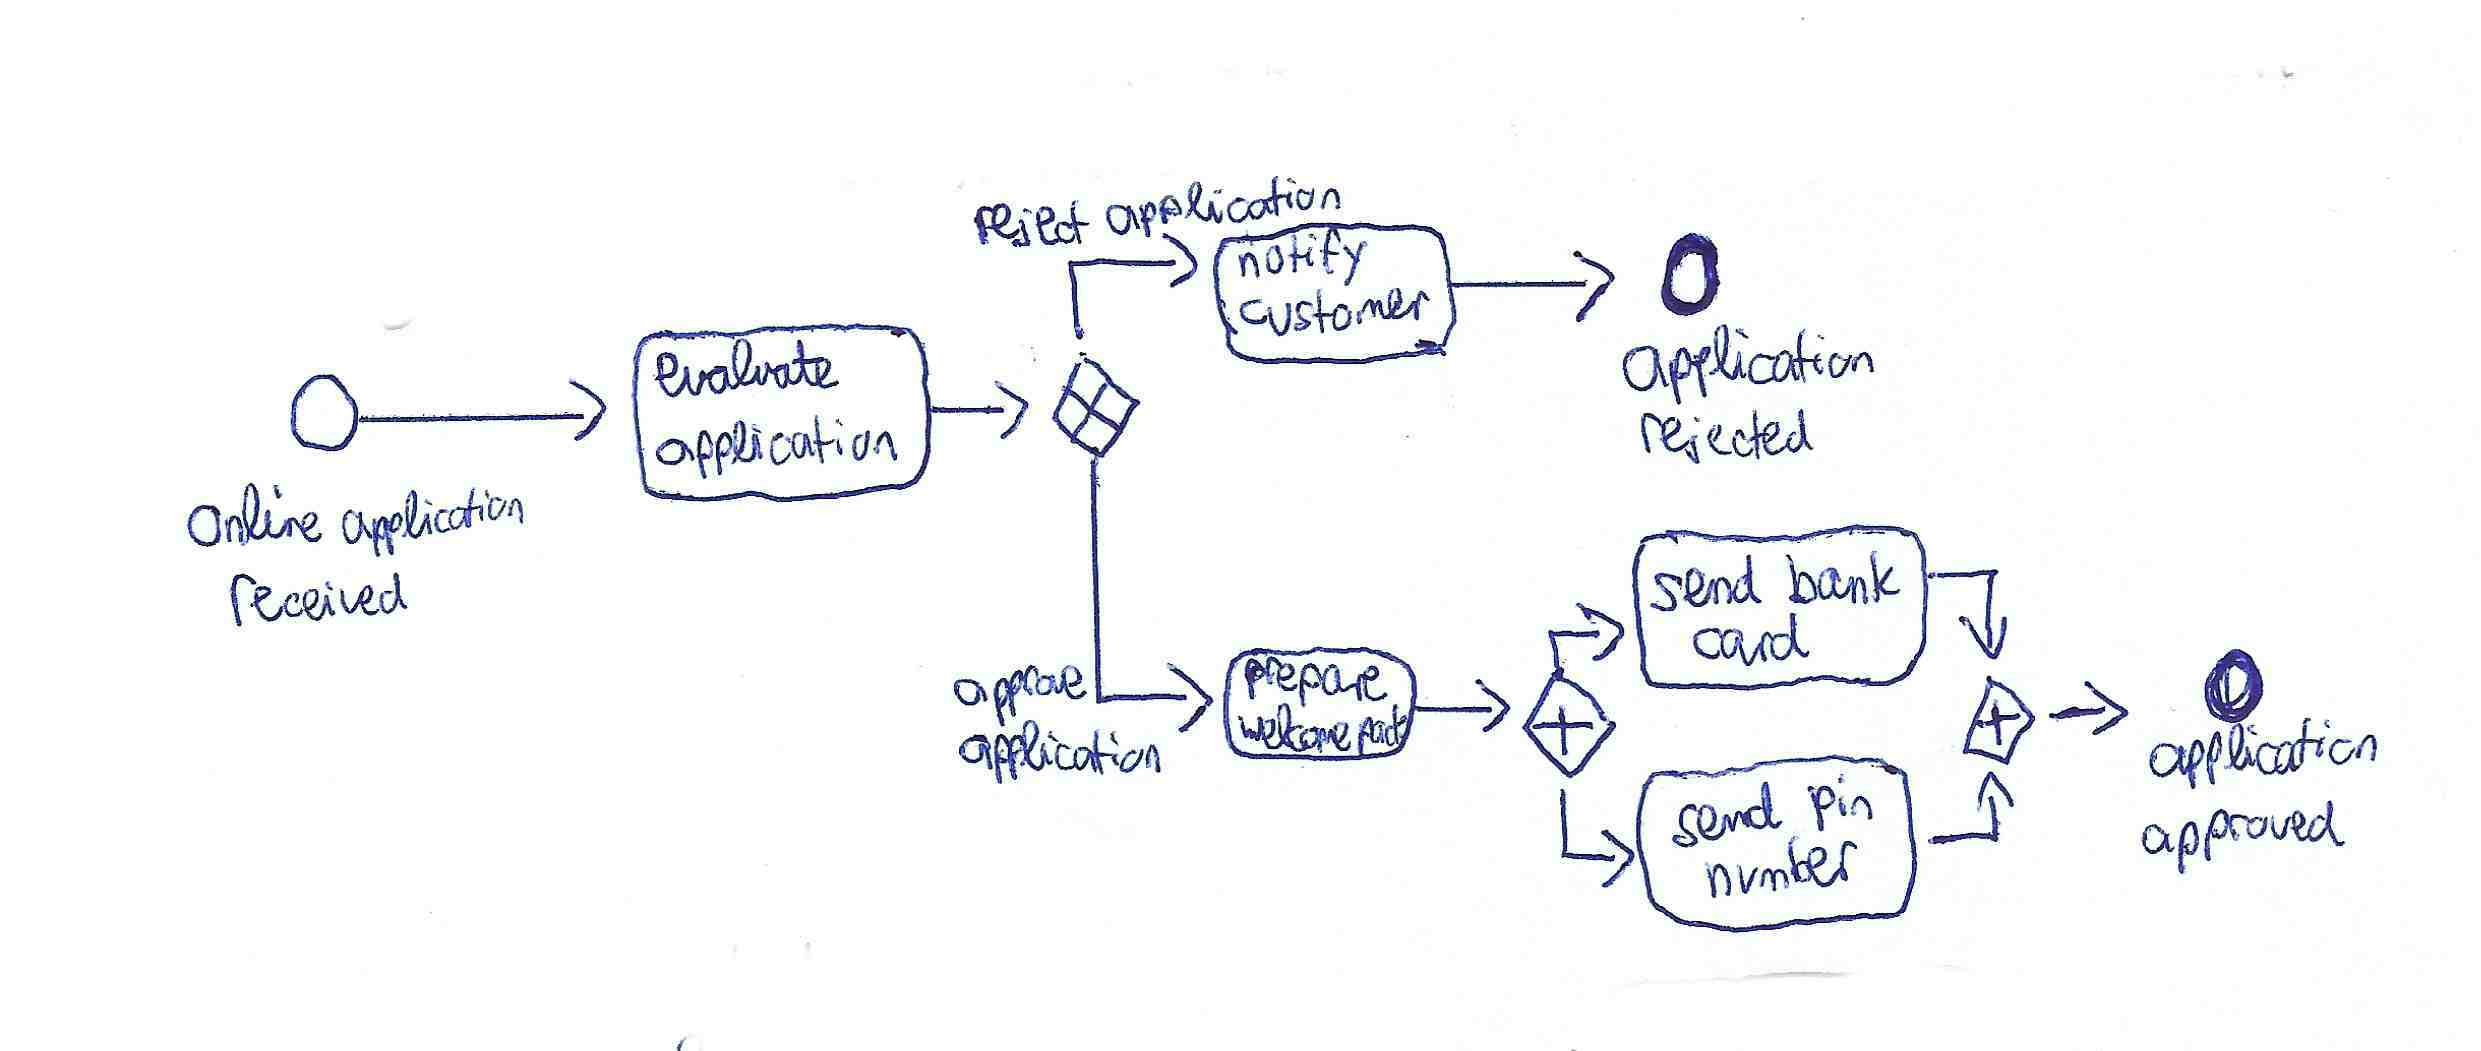application: (1617, 323, 1877, 400), (2147, 728, 2380, 795), (1100, 177, 1342, 241), (653, 413, 903, 473), (953, 722, 1165, 784), (334, 495, 528, 559)
approve: (949, 662, 1092, 723)
approved: (2139, 814, 2345, 875)
bank: (1783, 548, 1899, 609)
card: (1685, 614, 1813, 668)
customer: (1242, 279, 1434, 340)
evaluate: (650, 336, 840, 404)
notify: (1233, 231, 1377, 285)
number: (1698, 845, 1858, 904)
online: (180, 481, 328, 549)
pack: (1351, 708, 1407, 752)
pin: (1804, 768, 1873, 837)
prepare: (1240, 655, 1391, 708)
received: (222, 571, 411, 635)
reject: (968, 190, 1092, 256)
rejected: (1631, 404, 1816, 467)
send: (1647, 554, 1764, 614), (1666, 801, 1783, 853)
welcome: (1237, 703, 1353, 750)
